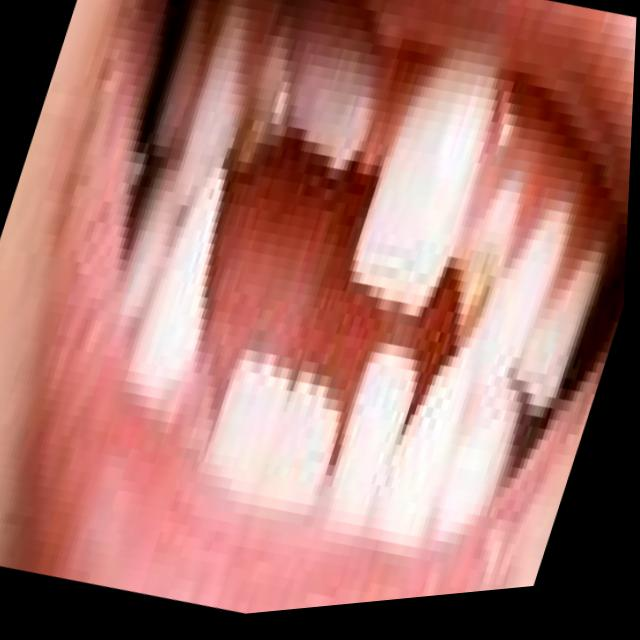hypodontia: (177, 234, 221, 451)
